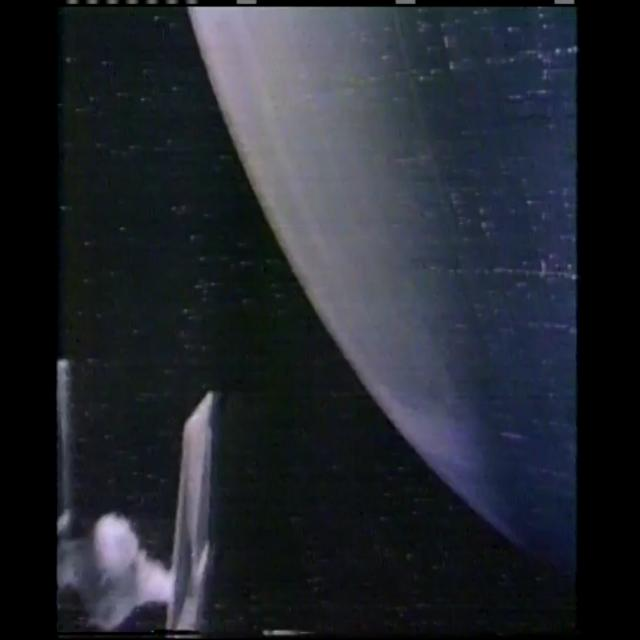death-stars: (187, 7, 578, 571)
